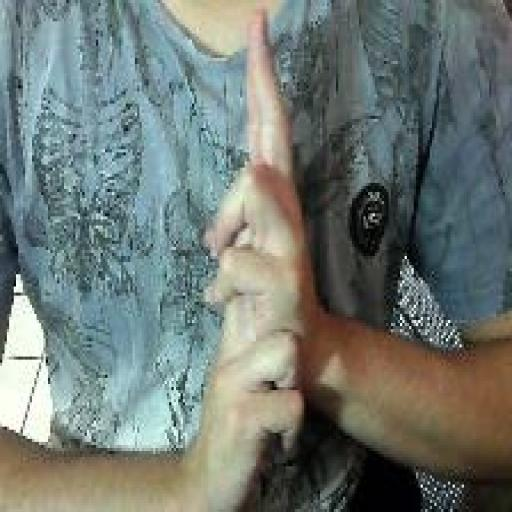Hitsuji -ram-: (199, 4, 313, 504)
